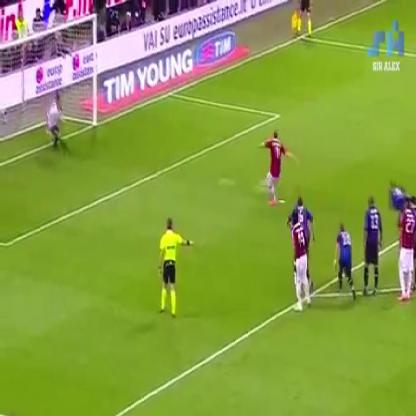penalty kick: (16, 24, 288, 221)
